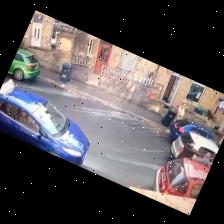person: (177, 143, 203, 158), (170, 104, 184, 124), (197, 153, 210, 164)
